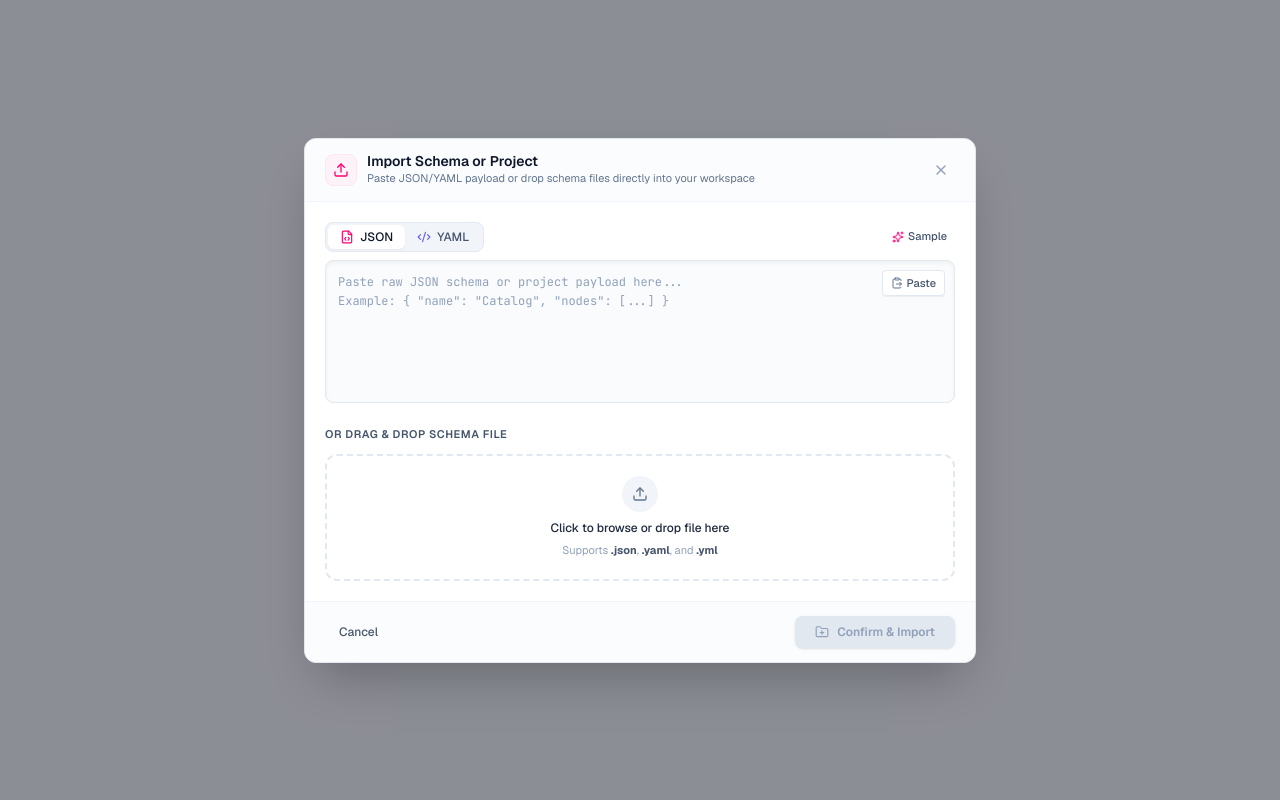
Test case: ImportModal Component › switches between JSON and YAML tabs and updates placeholders
This screenshot has width=1280, height=800.
Check: the text box with placeholder "Paste raw JSON schema" is shown, box 325,260 -> 955,402
What coordinates should you click on to do the following:
click the button "YAML"
I would click on:
 (443, 236)
Its box is 405,224 -> 481,248.
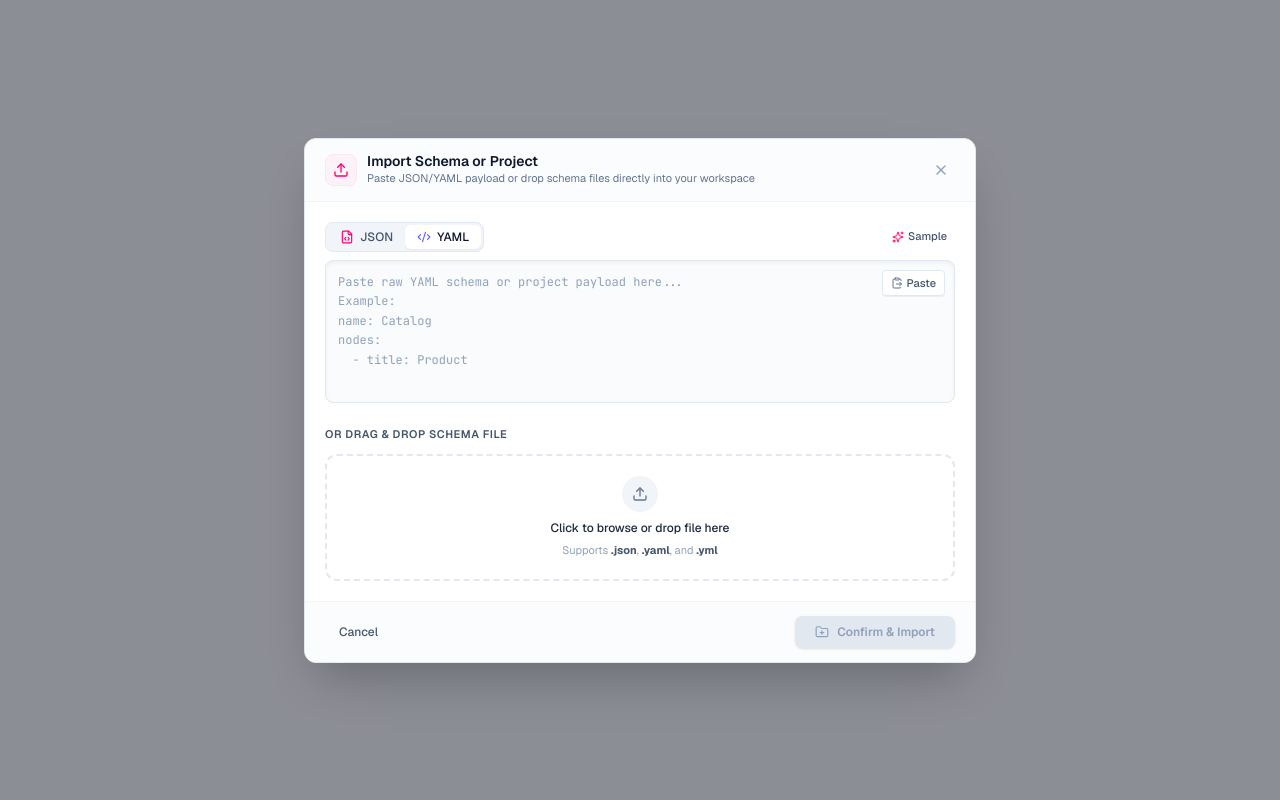
Check: the text box with placeholder "Paste raw YAML schema" is shown, box 325,260 -> 955,402
What coordinates should you click on to do the following:
click the button "JSON"
I would click on:
 (367, 236)
Its box is 328,224 -> 405,248.
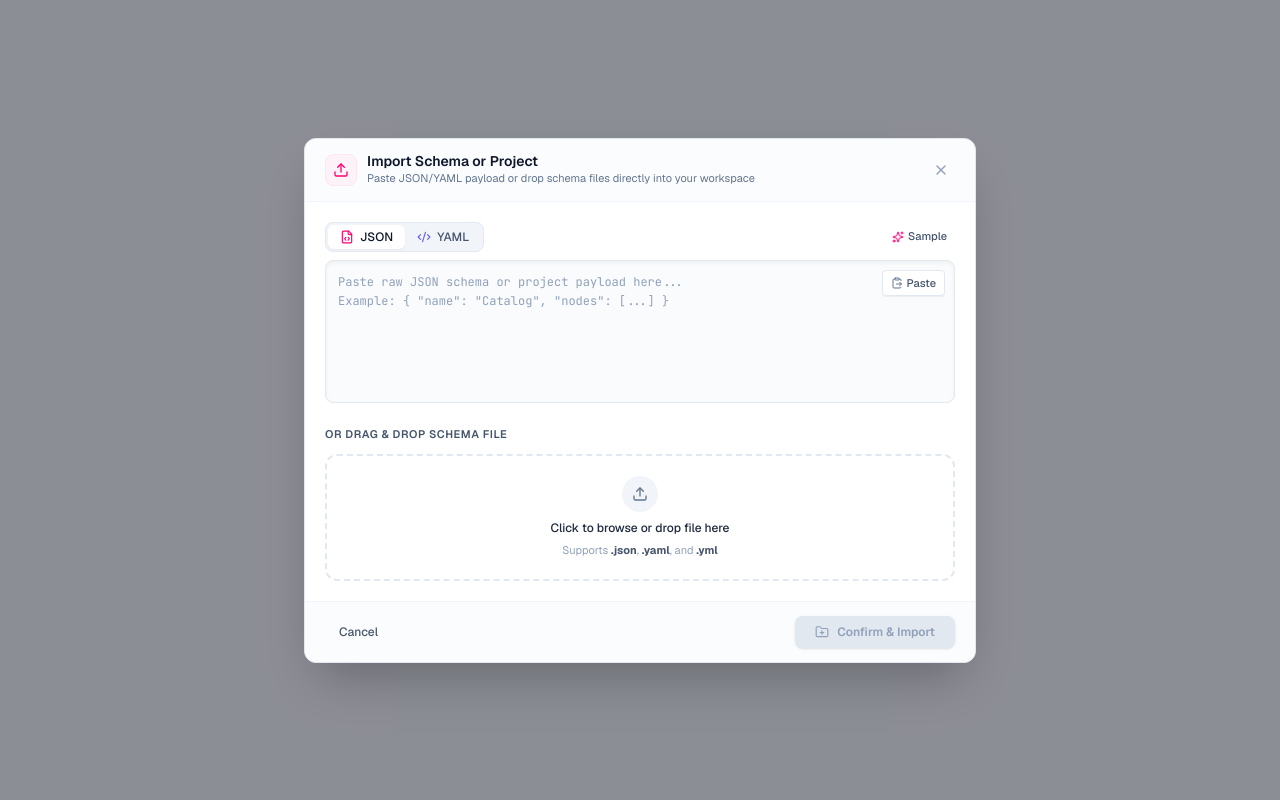
Check: the text box with placeholder "Paste raw JSON schema" is shown, box 325,260 -> 955,402
